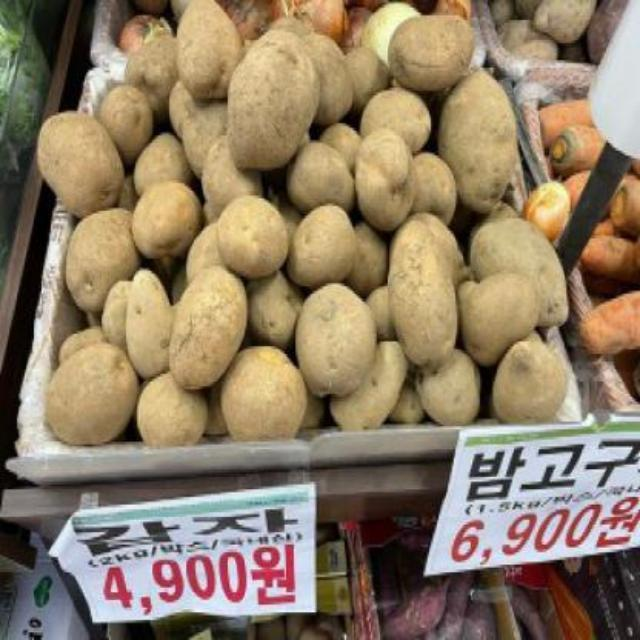potato: (224, 29, 322, 176), (435, 67, 523, 217), (388, 216, 460, 375), (472, 220, 575, 327), (287, 283, 379, 399), (166, 264, 250, 389), (33, 111, 126, 212), (225, 342, 302, 447), (52, 344, 135, 441), (460, 271, 540, 366), (380, 11, 476, 90), (326, 337, 406, 431), (175, 1, 250, 100), (193, 136, 276, 220), (68, 211, 139, 306), (165, 76, 242, 161), (233, 263, 312, 344), (116, 273, 176, 378), (295, 29, 364, 120), (494, 339, 568, 423), (132, 371, 206, 453), (346, 83, 432, 153), (283, 202, 353, 287), (412, 347, 487, 426), (222, 193, 291, 278), (357, 134, 418, 227), (135, 178, 203, 260), (282, 143, 359, 212), (90, 85, 152, 159), (301, 56, 363, 126), (397, 156, 456, 227), (123, 41, 184, 105), (133, 127, 187, 194)
